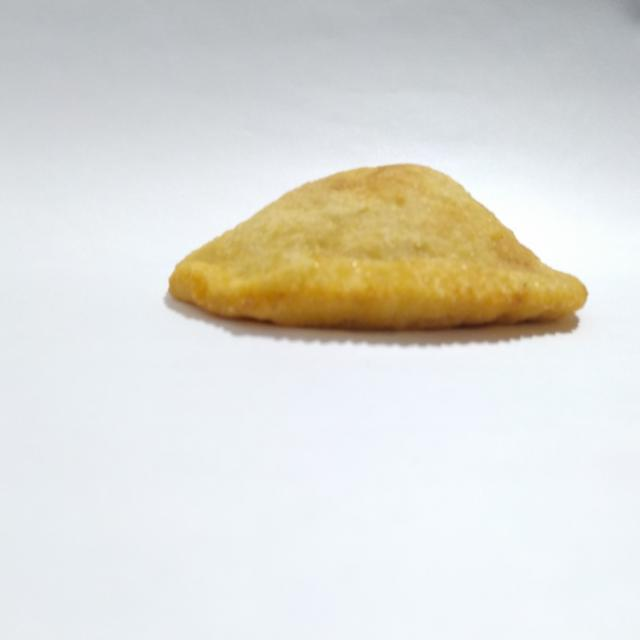Food: (157, 154, 595, 341)
